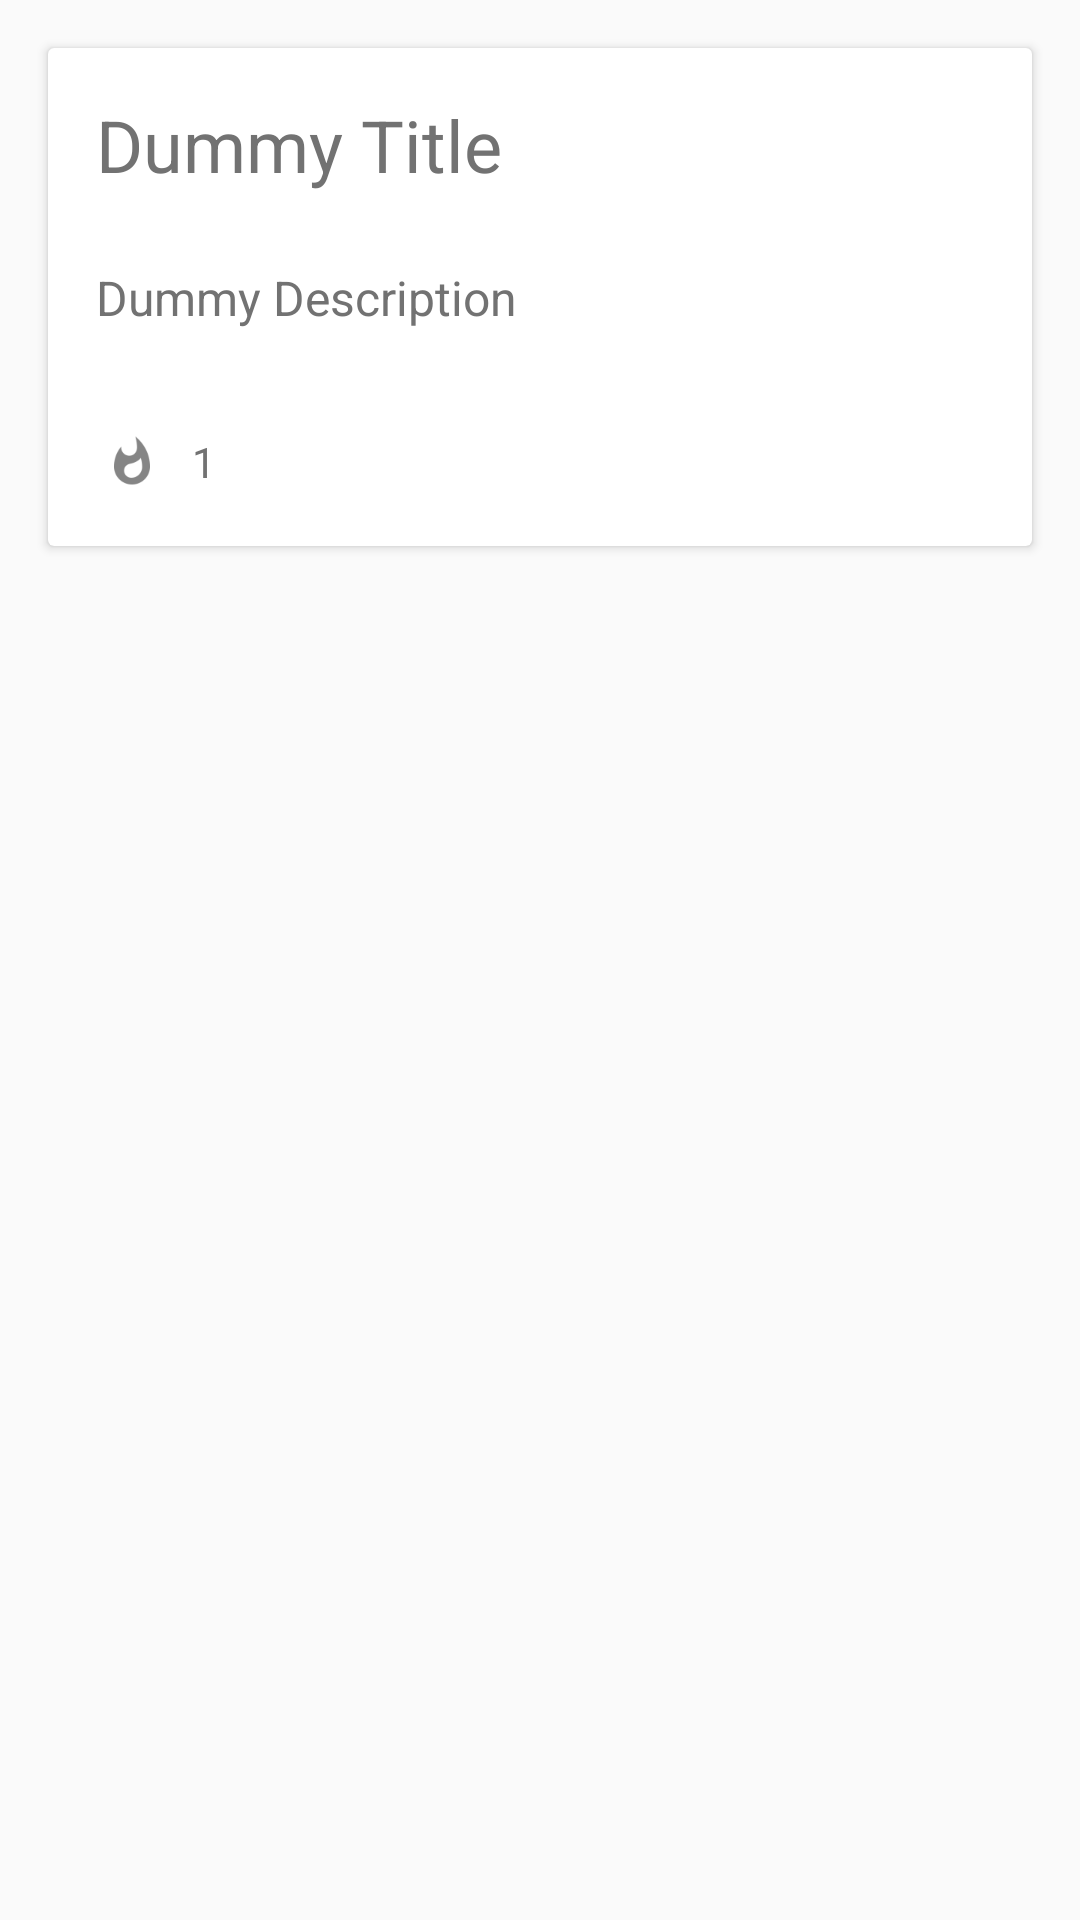

Where to tap for icons on this 1080×1920 app screen, as [x,y]:
Priority Icon: [132,461]
